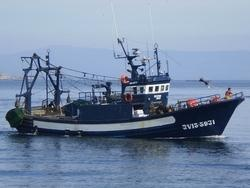otherboat: (5, 25, 242, 141)
